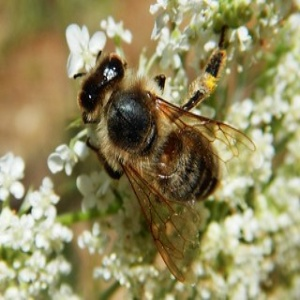bee: (72, 38, 262, 283)
